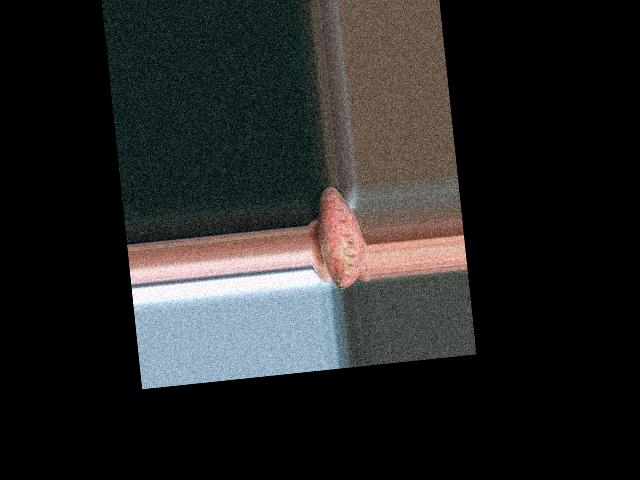sweet_potato: (318, 184, 365, 290)
